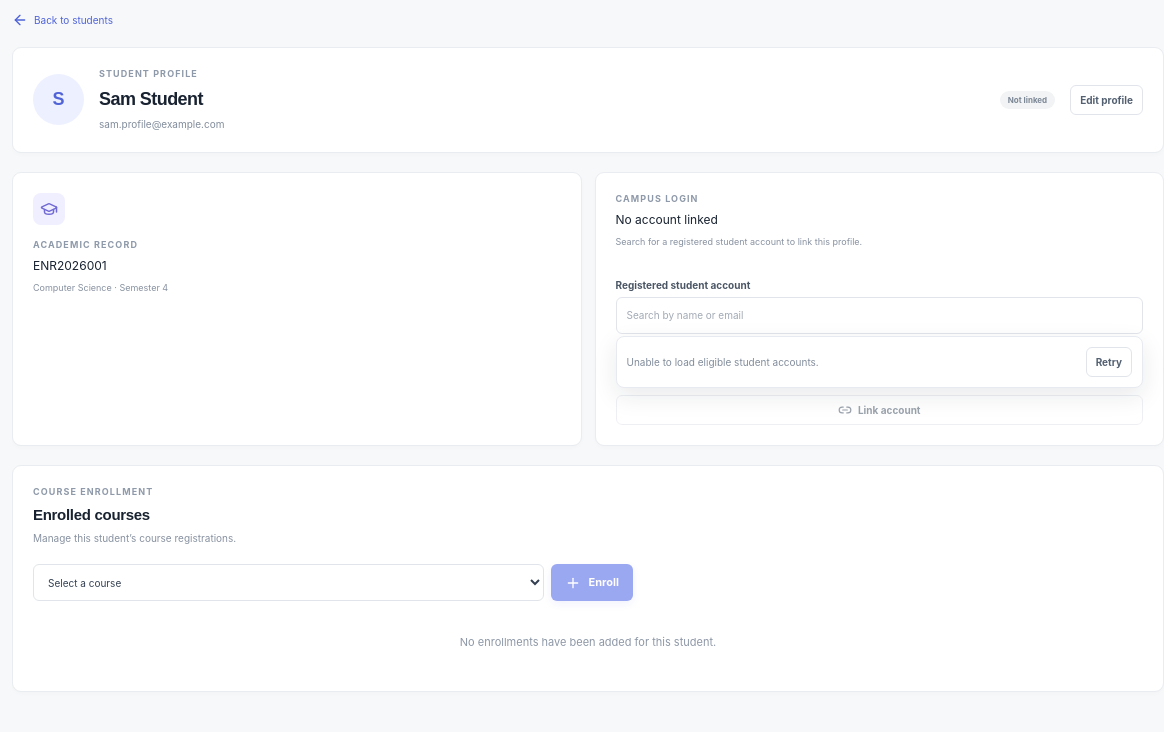
Scenario: Student account linking › shows a safe error and retries loading accounts
Check: the text "Unable to load eligible student accounts." is shown, box [626,355,819,370]
Click the button "Retry": (1109, 362) [1086,347,1132,377]
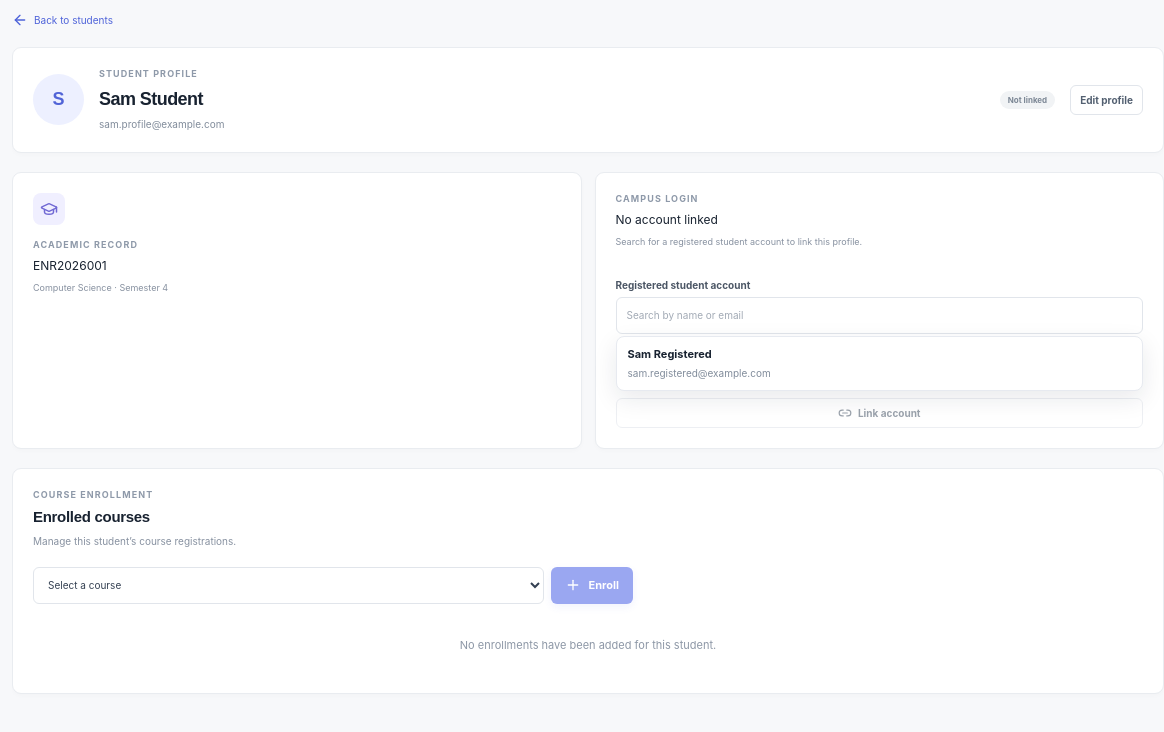
Check: the option "Sam Registered sam.registered@example.com" is shown, box [628,347,771,379]
